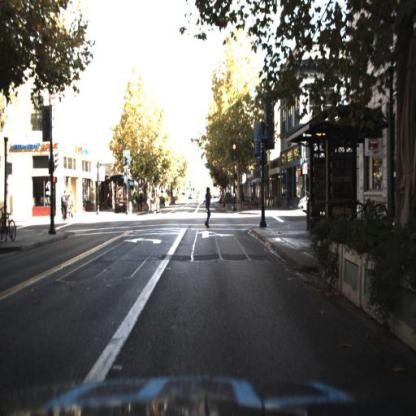car: (297, 176, 310, 222)
pedestrian: (142, 185, 163, 222), (201, 183, 215, 226), (68, 185, 77, 227), (61, 189, 68, 229)
trafficLight-Red: (229, 137, 239, 163)
